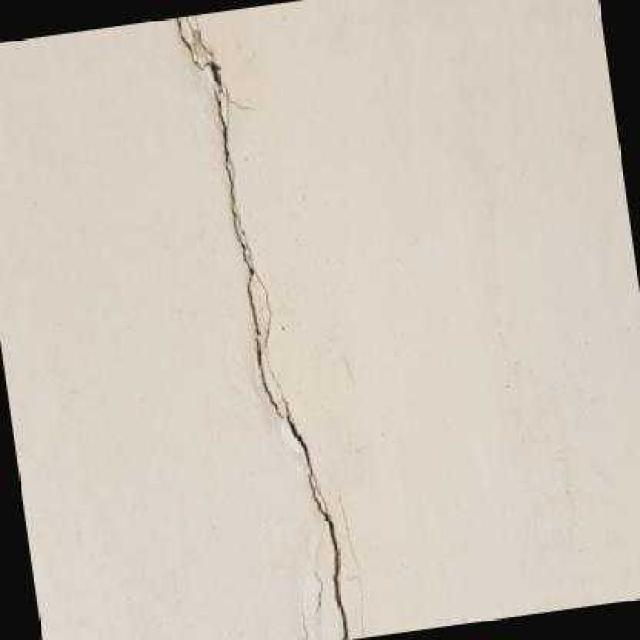D00: (172, 16, 350, 640)
